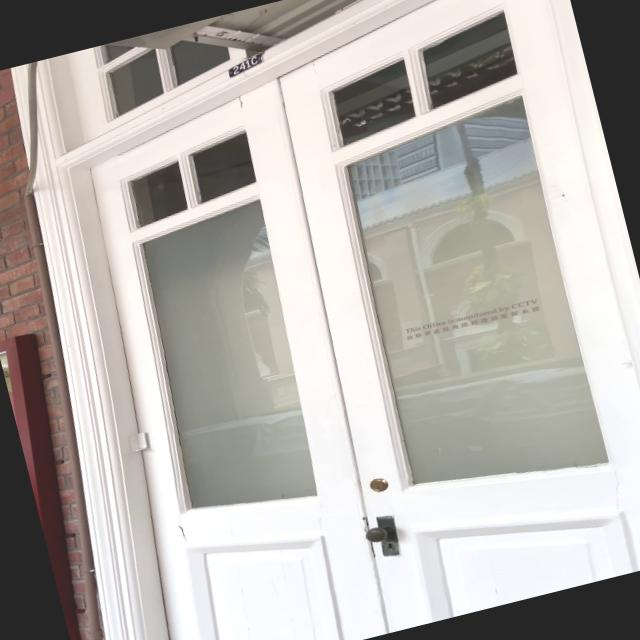room241c: (224, 50, 267, 81)
